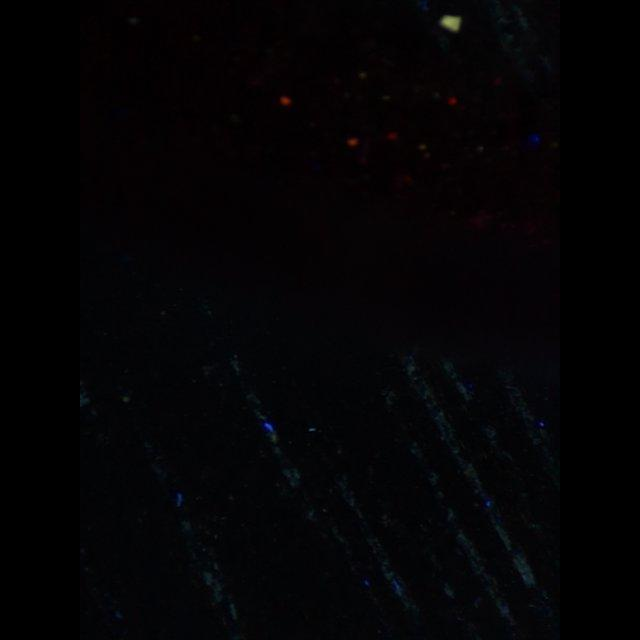microbeads: (440, 14, 462, 32)
